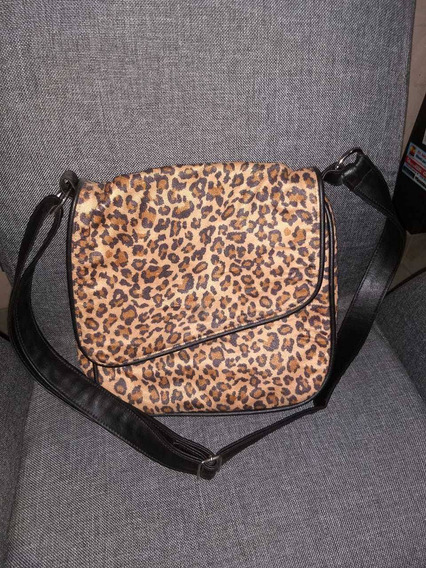cartera: (20, 145, 414, 479)
